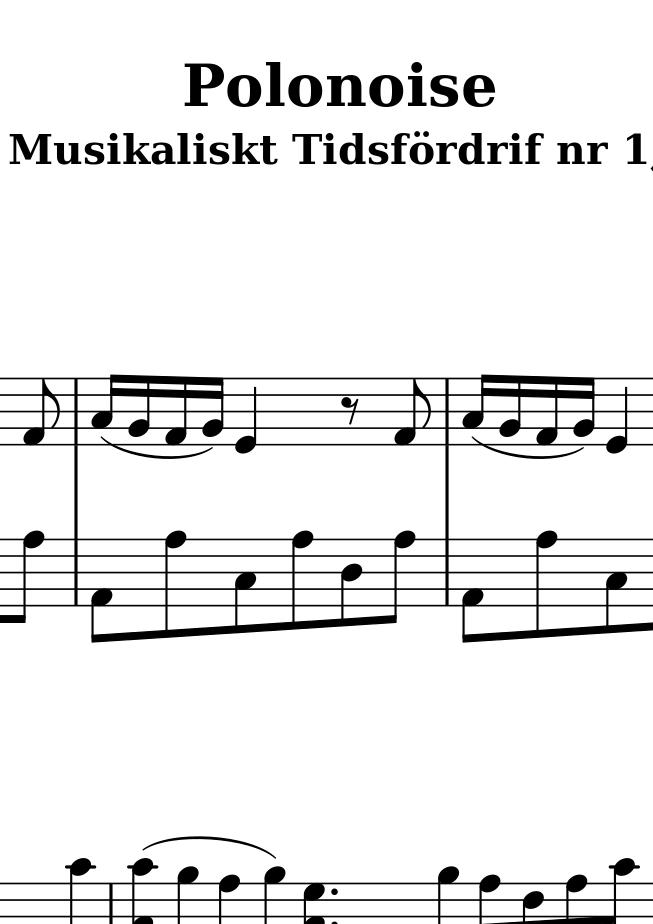16_1: (162, 374, 189, 448), (533, 374, 560, 448)
16_2: (498, 373, 523, 446), (127, 374, 152, 446), (200, 375, 224, 446), (572, 375, 596, 446)
16_3: (89, 372, 121, 447), (460, 372, 491, 446)
4_0: (232, 376, 259, 456), (604, 376, 629, 455)
8_1: (391, 376, 432, 447), (21, 376, 60, 447), (459, 538, 484, 645), (88, 538, 112, 645)
8_3: (231, 536, 257, 637), (603, 537, 629, 635)
8_4: (338, 537, 363, 629)
8_8: (380, 529, 415, 627), (8, 529, 43, 626), (285, 528, 313, 634), (533, 529, 558, 641), (162, 529, 185, 641)
Rests8: (339, 395, 361, 426)
Single_barline: (440, 537, 457, 608), (67, 539, 84, 605), (441, 376, 456, 448), (69, 375, 83, 446)
Slur: (141, 835, 280, 862), (470, 434, 581, 460), (96, 437, 214, 460)
dot: (328, 885, 339, 897)
